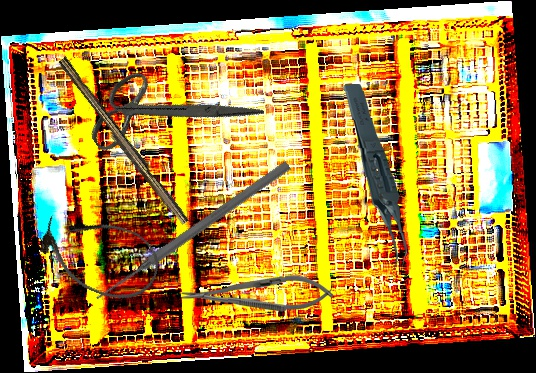Cannula: (31, 201, 168, 311)
Iris Scissors: (74, 24, 265, 201)
Needle Holder: (180, 273, 334, 314)
Pusher: (92, 158, 293, 305)
Scalpel Handle: (53, 56, 192, 228)
Tissue Forceps: (342, 82, 408, 271)
